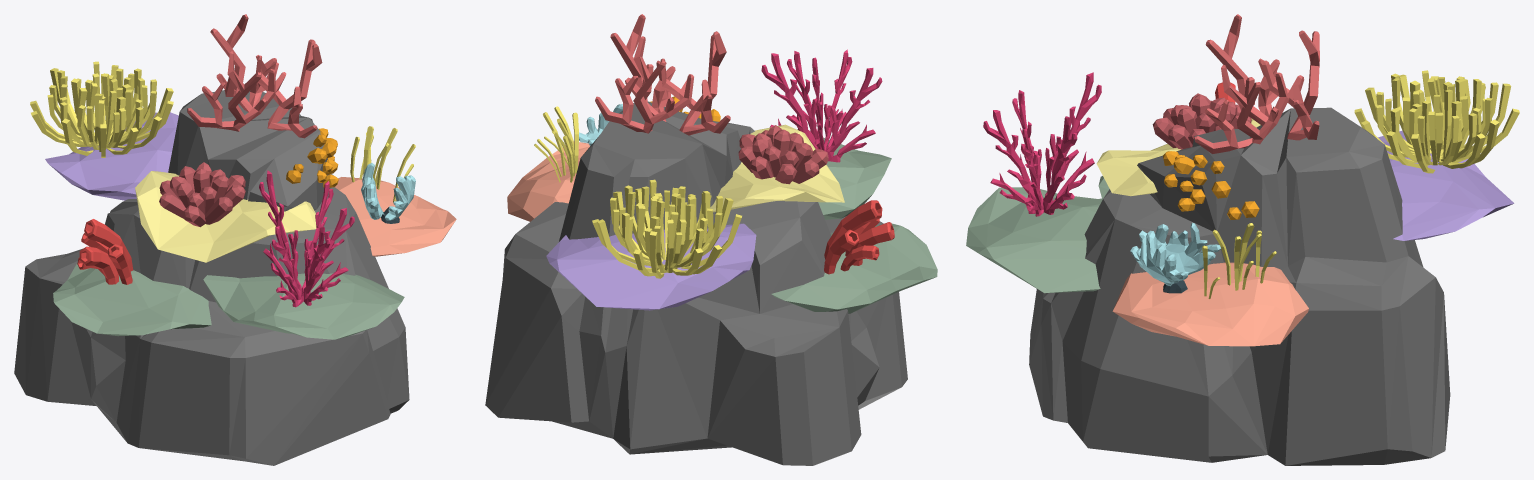
File: CoralReef1.glb
3 renders of one model, left to right at view 1: azimuth 30°, elevation 25°; view 2: azimuth 150°, elevation 25°; view 3: azimuth 270°, elevation 25°, orthographic. The views are drawn at different scales.
Visible parts, largest first — view 1: Coral_reef_006; view 2: Coral_reef_006; view 3: Coral_reef_006.
Boxes of the visible parts, <box> form: Coral_reef_006: <box>14,14,456,465</box>; Coral_reef_006: <box>485,14,937,465</box>; Coral_reef_006: <box>966,14,1519,465</box>.
Size of what is drawn, in the model's own units: 3.73 by 3.2 by 4.1.
1 material, 1 textured.
